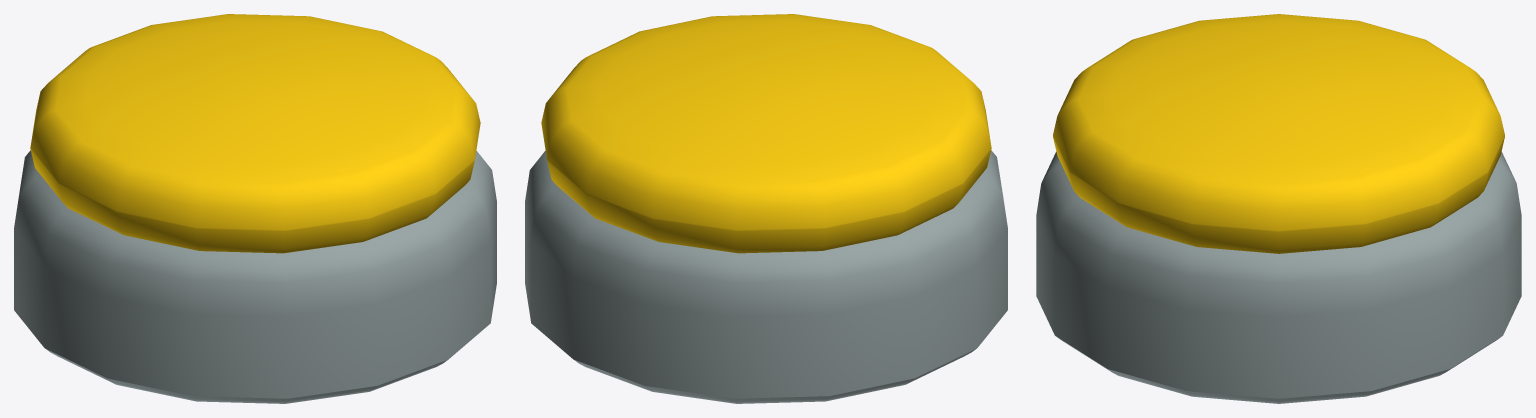
File: button_yellow.fbx
The picture shows the model from 3 angles, left to right: view 1: azimuth 30°, elevation 25°; view 2: azimuth 150°, elevation 25°; view 3: azimuth 270°, elevation 25°; orthographic projection.
Parts seen in each view (by area): view 1: ChamferCyl002, Gengon002; view 2: ChamferCyl002, Gengon002; view 3: ChamferCyl002, Gengon002.
Part boxes in pixels (x1,y1,x2,y2): ChamferCyl002: (30, 14, 480, 253); Gengon002: (14, 150, 496, 403); ChamferCyl002: (541, 14, 991, 253); Gengon002: (525, 150, 1007, 403); ChamferCyl002: (1053, 14, 1504, 253); Gengon002: (1036, 151, 1521, 403).
Size of the model in its own units: 11.81 by 6.15 by 11.81.
